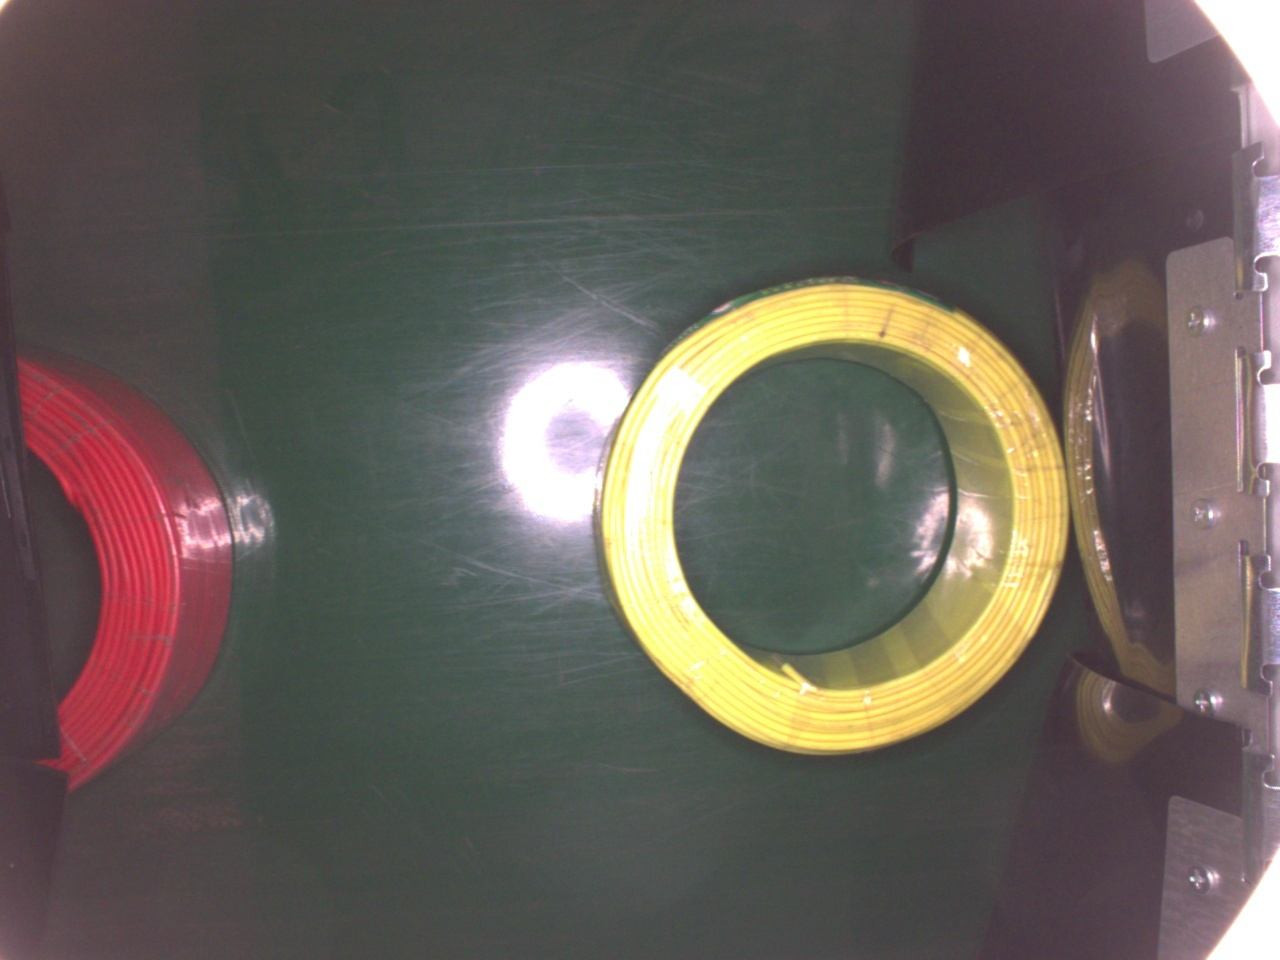red: (16, 347, 233, 792)
yellow: (586, 270, 1074, 753)
